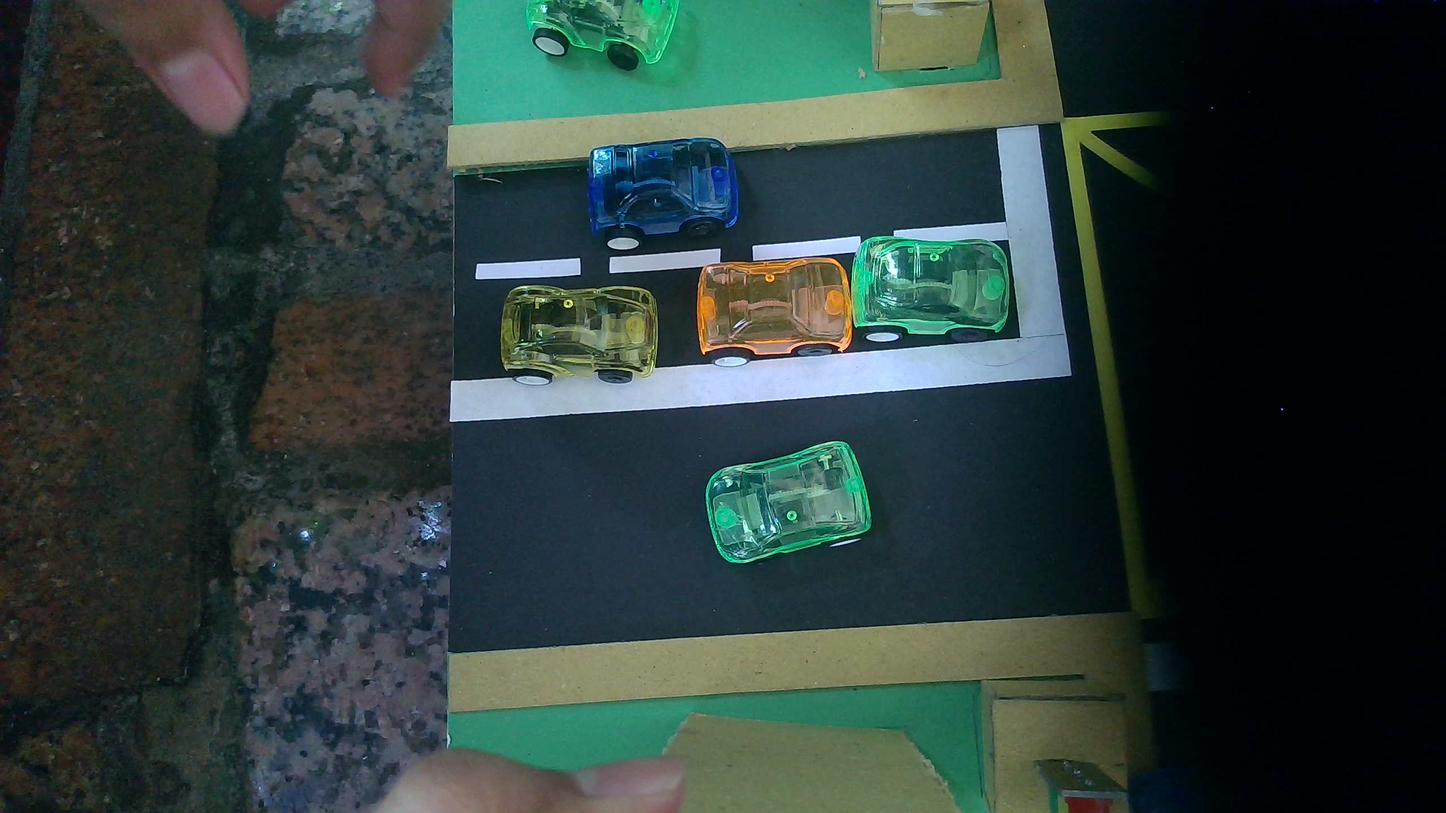Mobil biru: (587, 137, 741, 250)
Mobil hijau: (852, 236, 1010, 342)
Mobil kuning: (501, 286, 657, 385)
Mobil orange: (696, 257, 852, 365)
